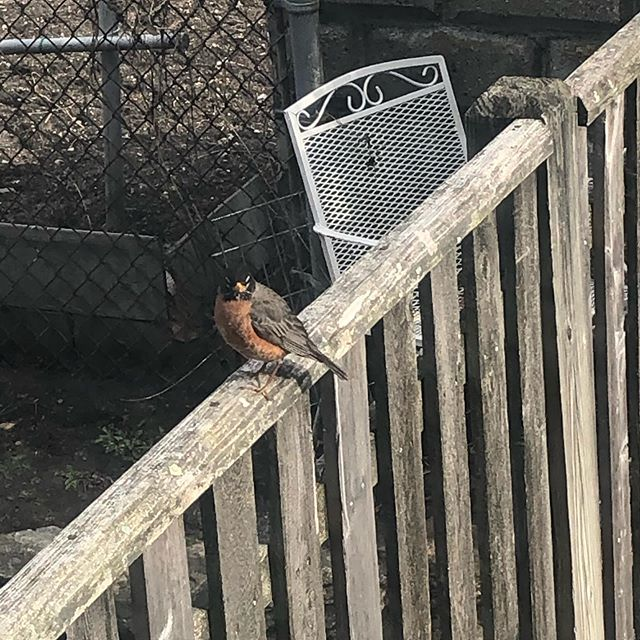animal: (187, 257, 348, 440)
chair: (278, 72, 538, 363)
